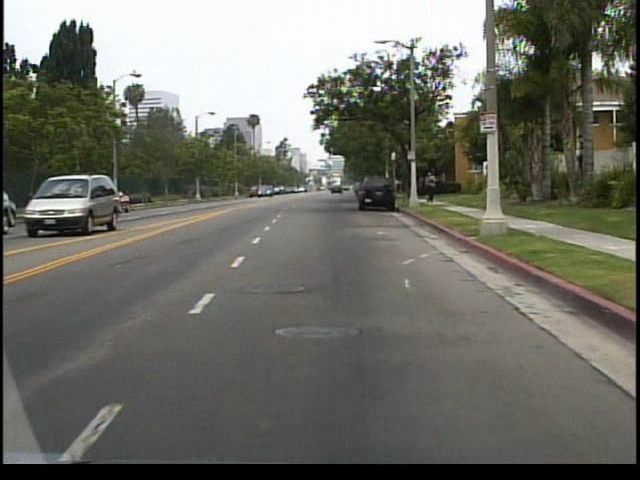person: (423, 169, 438, 205), (428, 169, 435, 205)
